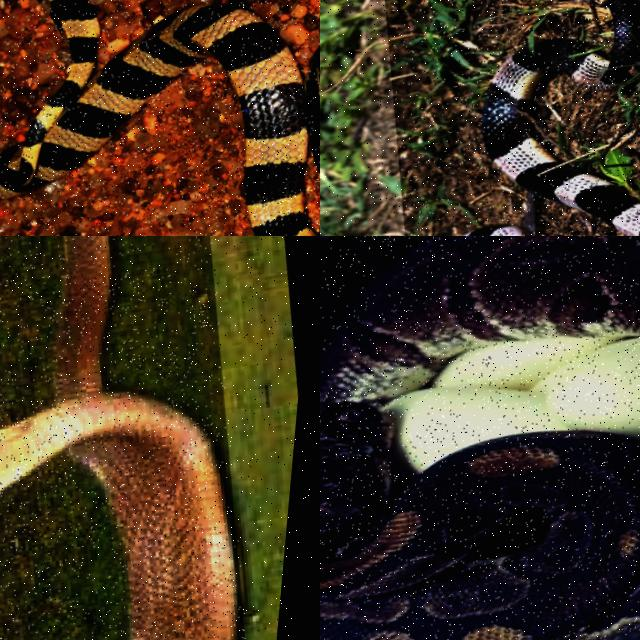Bungarus candidus: (481, 0, 639, 235)
Bungarus fasciatus: (0, 0, 319, 235)
Naja kaouthia: (0, 236, 243, 639)
Python bivittatus: (320, 236, 639, 639)
